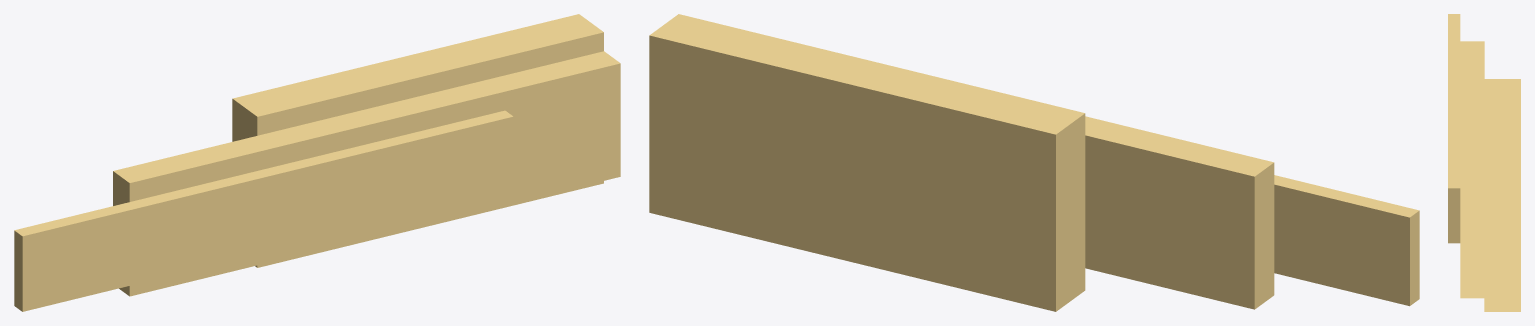
The model's file is clock_hands.glb.
3 views of the same model, side by side, from view 1: azimuth 30°, elevation 25°; view 2: azimuth 150°, elevation 25°; view 3: azimuth 270°, elevation 25° (orthographic). The views are drawn at different scales.
Parts seen in each view (by area): view 1: seconds, minutes, hours; view 2: hours, minutes, seconds; view 3: hours, minutes, seconds.
Boxes of the visible parts, x1=… form: seconds: x1=14, y1=110, x2=513, y2=311; minutes: x1=113, y1=51, x2=620, y2=296; hours: x1=232, y1=14, x2=603, y2=267; hours: x1=649, y1=14, x2=1085, y2=311; minutes: x1=1085, y1=116, x2=1274, y2=309; seconds: x1=1274, y1=175, x2=1419, y2=306; hours: x1=1484, y1=79, x2=1520, y2=311; minutes: x1=1460, y1=41, x2=1484, y2=298; seconds: x1=1448, y1=14, x2=1460, y2=243.
Size of the model in its own units: 0.84 by 0.2 by 0.12.
1 material, 1 textured.
